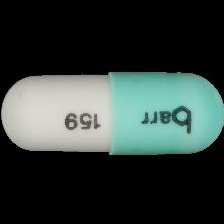67046-910: (0, 0, 224, 224)
